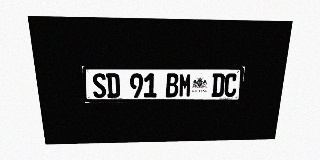1: (143, 73, 156, 97)
9: (130, 73, 143, 98)
B: (166, 73, 179, 97)
C: (224, 73, 238, 97)
D: (106, 73, 120, 98), (211, 73, 225, 97)
M: (178, 73, 192, 97)
S: (92, 73, 107, 98)
